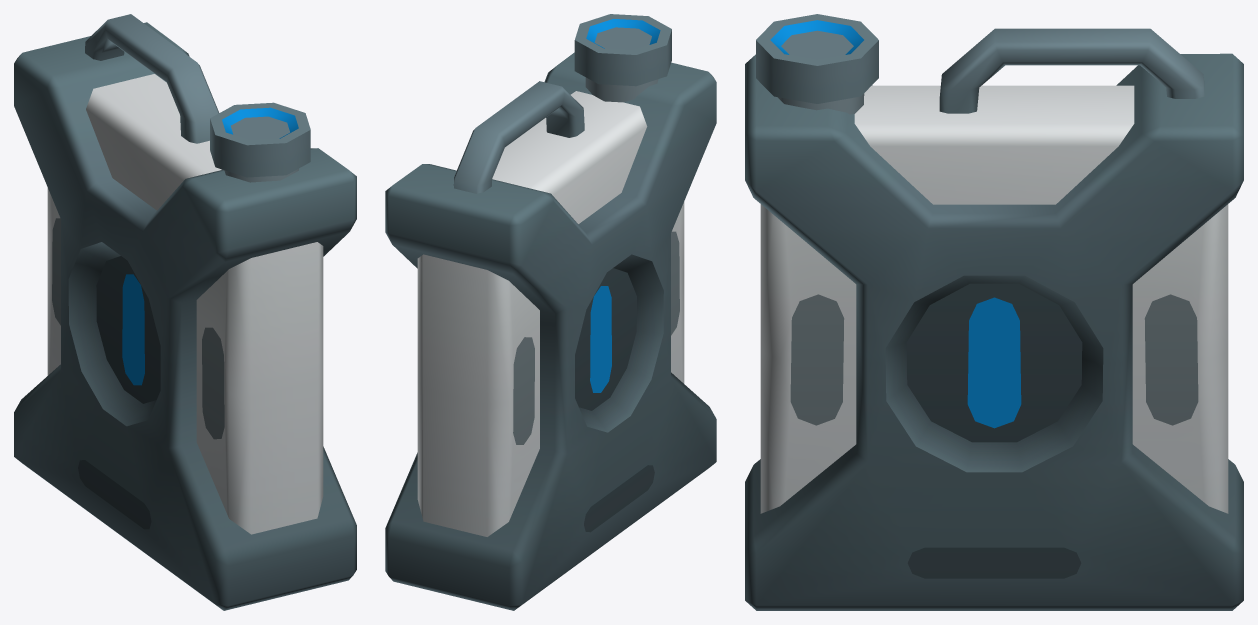
File: Gas_can_009.fbx
The picture shows the model from 3 angles, left to right: view 1: azimuth 30°, elevation 25°; view 2: azimuth 150°, elevation 25°; view 3: azimuth 270°, elevation 25°; orthographic projection. The views are drawn at different scales.
Parts seen in each view (by area): view 1: Gas_can_009; view 2: Gas_can_009; view 3: Gas_can_009.
Boxes of the visible parts, x1,y1,x2,y2 form: Gas_can_009: [14, 14, 356, 610]; Gas_can_009: [385, 14, 716, 610]; Gas_can_009: [745, 14, 1243, 610].
Bounding box in the file's own units: 18.66 × 48.24 × 57.59.
